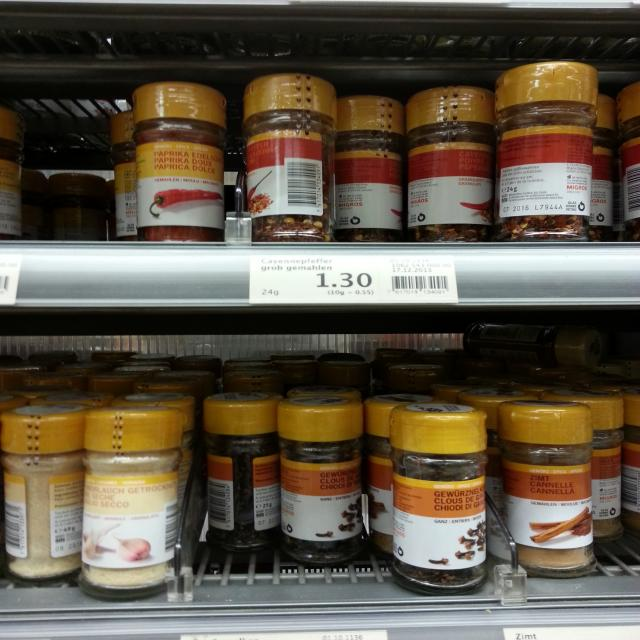Spices: (383, 401, 491, 595), (79, 408, 182, 601), (492, 59, 599, 243), (492, 397, 598, 572), (238, 73, 340, 246), (272, 395, 372, 565), (0, 404, 87, 591), (126, 83, 223, 244), (404, 87, 498, 245), (199, 392, 283, 554), (339, 96, 406, 242)
